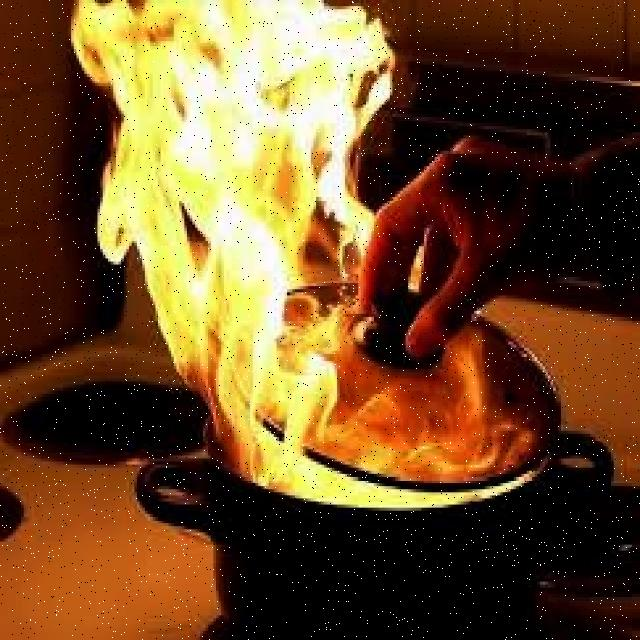fire: (68, 3, 382, 489)
